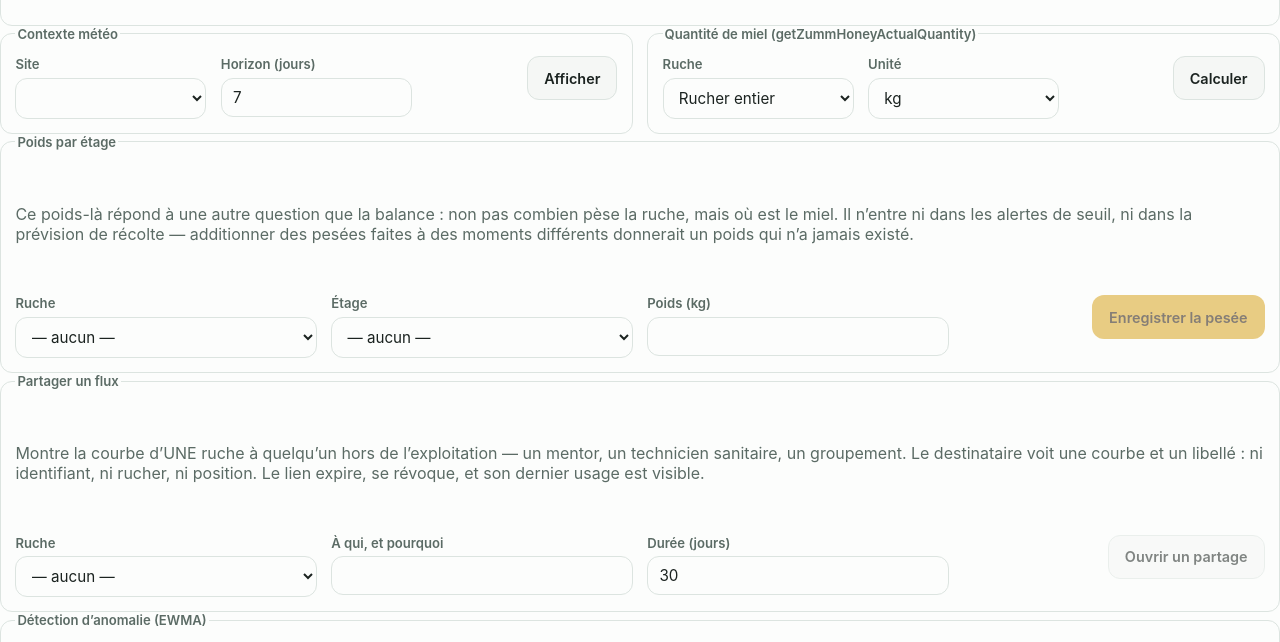
partage de flux › montre qu’un partage est révoqué au lieu de le faire disparaître
(page scrolled)
Select "Dadant" in the dropdown labelled "Ruche" below "À qui, et pourquoi": (166, 576) [15,556,317,597]
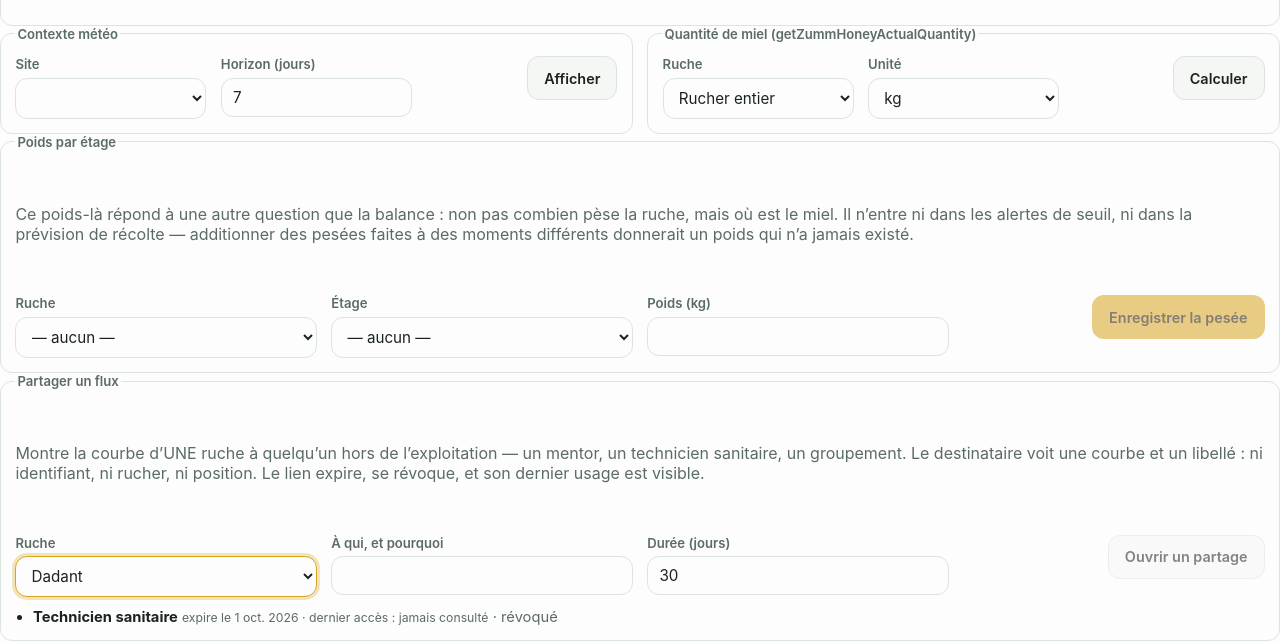
expect the text "· révoqué" is shown: met, box [488,608,558,626]
